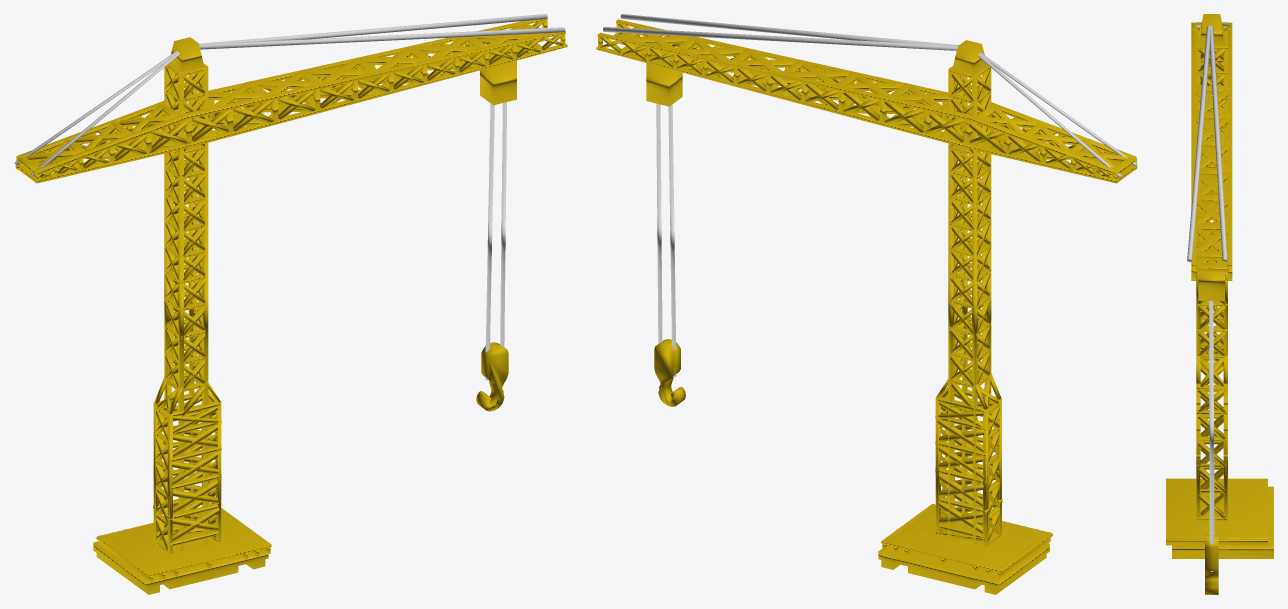
The model's file is crane.fbx.
The picture shows the model from 3 angles, left to right: view 1: azimuth 30°, elevation 25°; view 2: azimuth 150°, elevation 25°; view 3: azimuth 270°, elevation 25°; orthographic projection. The views are drawn at different scales.
Parts seen in each view (by area): view 1: Cube.001; view 2: Cube.001; view 3: Cube.001.
Boxes of the visible parts, x1,y1,x2,y2 form: Cube.001: (14, 14, 567, 594); Cube.001: (596, 14, 1137, 594); Cube.001: (1166, 14, 1273, 594).
Bounding box in the file's own units: 972 × 912 × 174.
